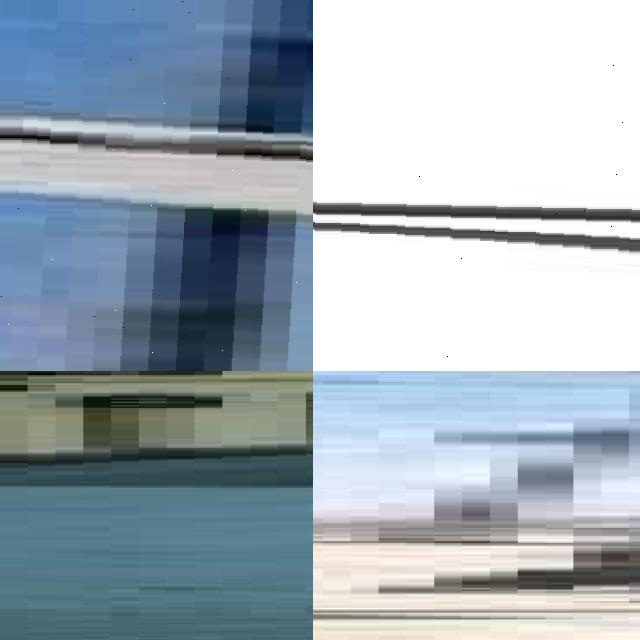street light: (0, 0, 313, 371), (313, 57, 640, 371)
